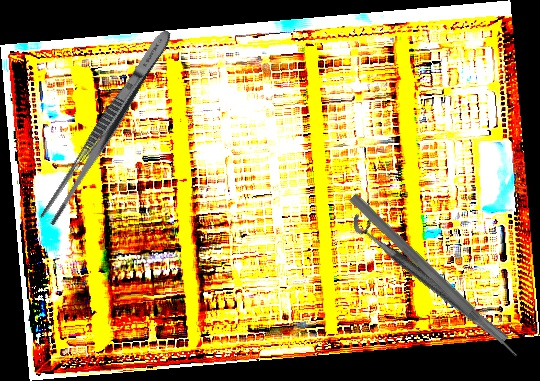Dressing Forceps: (38, 25, 177, 228)
Fixation Ring: (347, 202, 520, 346)
Pusher: (346, 191, 523, 362)
